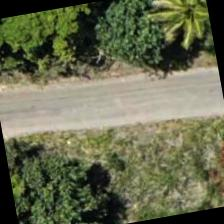Kelapa_Sawit: (157, 0, 213, 48)
